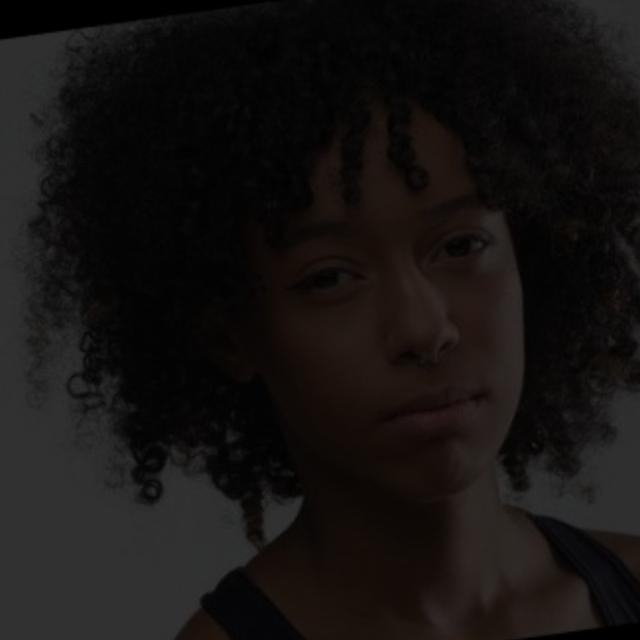Natural: (125, 92, 588, 501)
